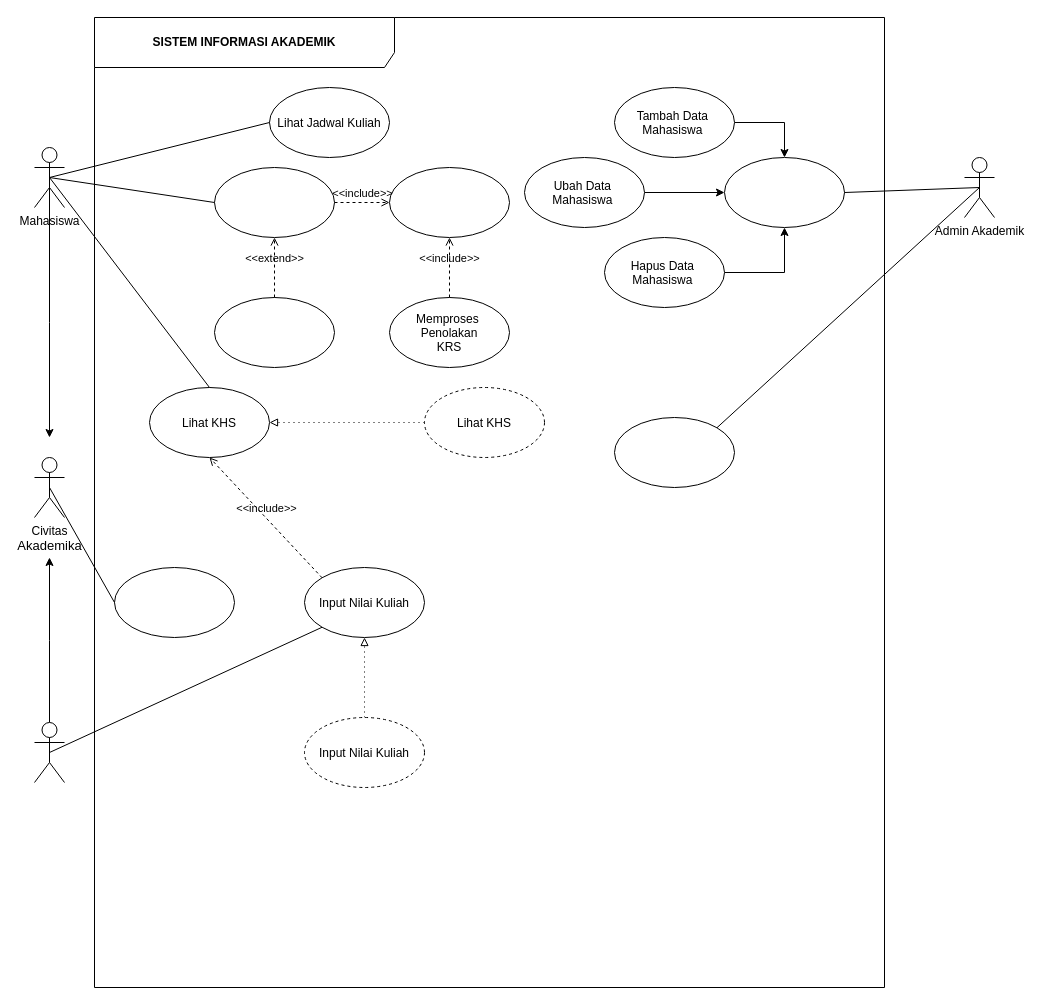
The diagram is 1041 pixels wide and 1005 high, and some of its shapes have lost their labels. Each missing label, with the centre of its shape:
"Dosen" belongs at point (49, 752).
"Kelola Data Mahasiswa" belongs at point (784, 192).
"Lihat Kalender Akademik" belongs at point (174, 602).
"Memvalidasi KRS" belongs at point (449, 202).
"Mengajukan KRS" belongs at point (274, 202).
"Mengelola Jadwal Kuliah" belongs at point (674, 452).
"Mengunduh Bukti Pengajuan" belongs at point (274, 332).
